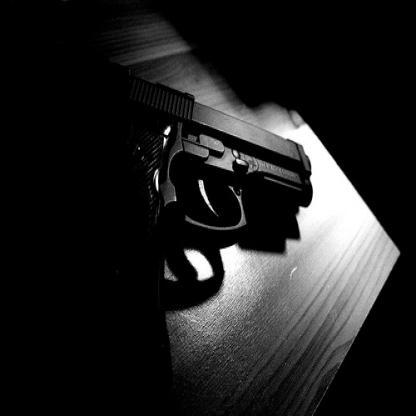gun: (131, 60, 329, 240)
